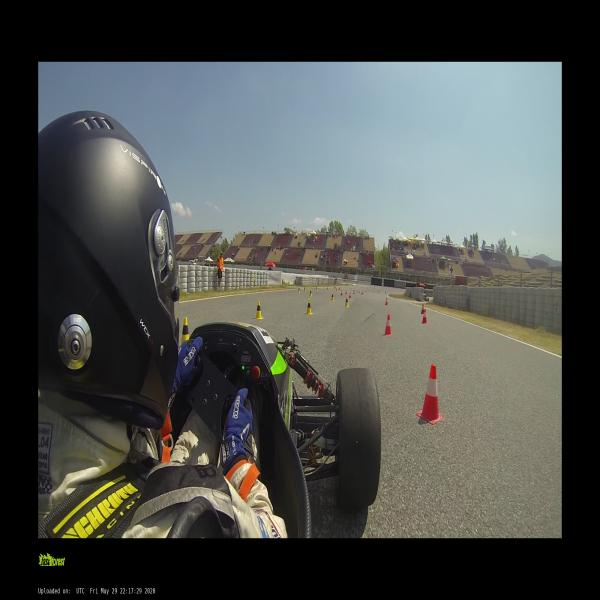orange_cone: (416, 364, 444, 424), (384, 314, 393, 335), (422, 309, 427, 324), (421, 305, 424, 314), (385, 298, 388, 306), (349, 292, 352, 298), (341, 290, 342, 296), (346, 290, 347, 295), (362, 290, 363, 294), (363, 291, 363, 294)
yellow_cone: (181, 317, 189, 346), (255, 301, 263, 319), (306, 299, 313, 314), (345, 296, 349, 307), (331, 293, 334, 301), (309, 290, 312, 296), (298, 287, 300, 293), (304, 286, 306, 291), (316, 286, 318, 291), (338, 287, 340, 292), (336, 287, 338, 291), (327, 287, 328, 291), (341, 286, 341, 288), (335, 286, 335, 290), (334, 286, 334, 288)
